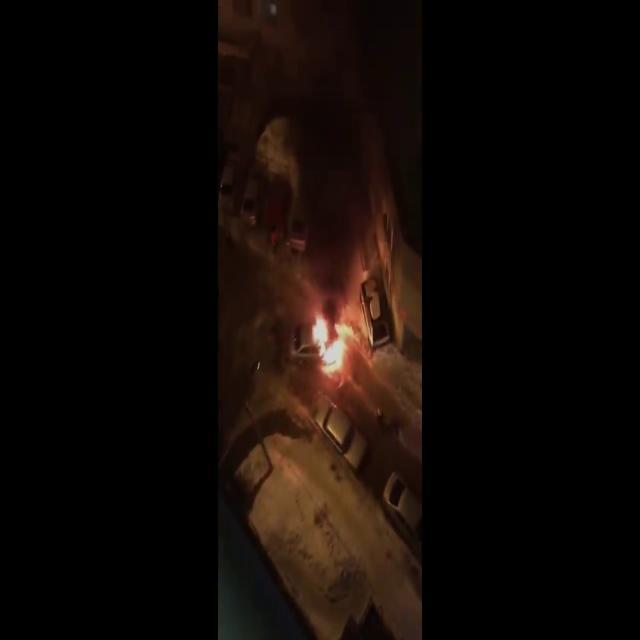Fire: (307, 306, 360, 376)
